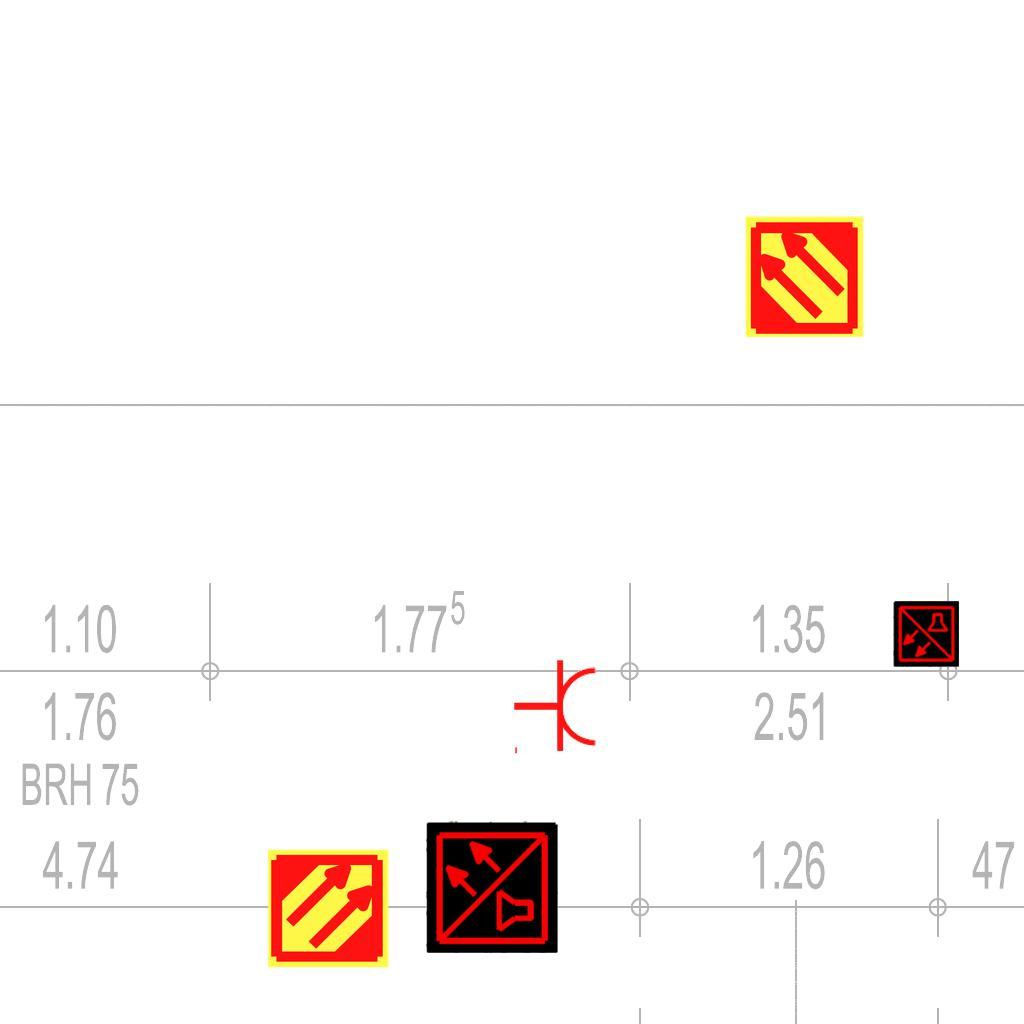ASR_Ansaugrauchmelder: (742, 214, 867, 339), (266, 846, 391, 971)
OKW_Multisensormelder_(Kombination_optischer_Rauch-Kahlenmonoxid_Waerme-Melder): (426, 821, 558, 953), (893, 601, 959, 667)
Schukosteckdose_einfach: (512, 658, 599, 758)
